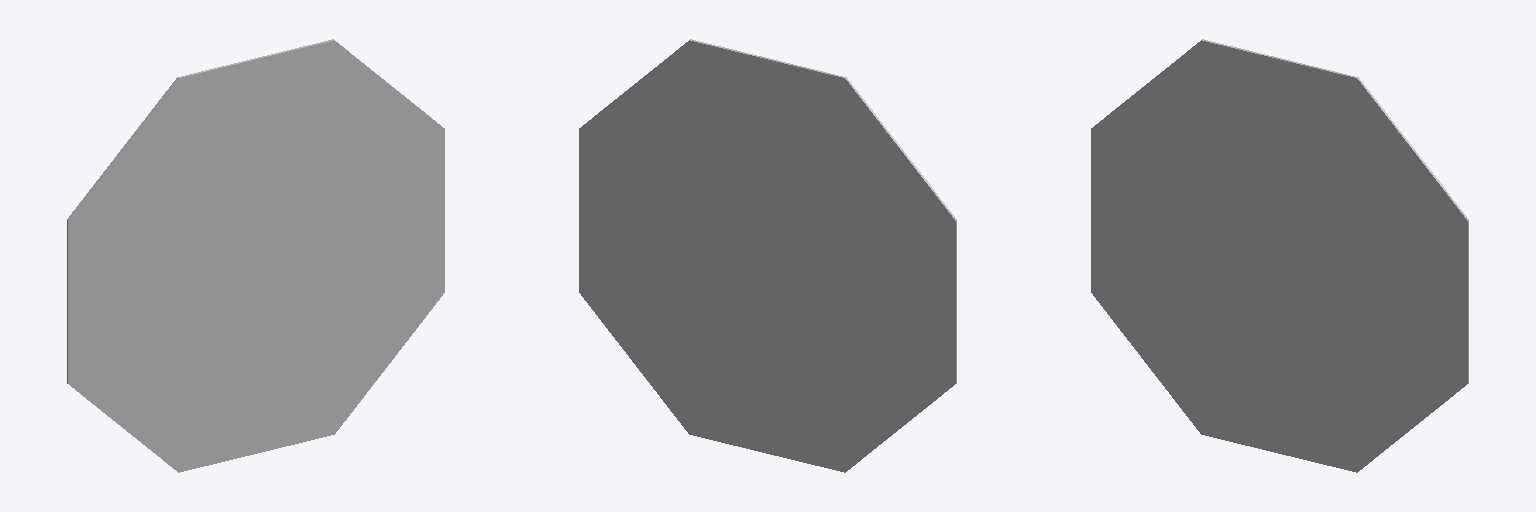
Rendered from RuN_Ac_sign_model.obj.
3 views of the same model, side by side, from view 1: azimuth 30°, elevation 25°; view 2: azimuth 150°, elevation 25°; view 3: azimuth 330°, elevation 25° (orthographic).
Visible parts, largest first — view 1: RuN_Ac_Sign; view 2: RuN_Ac_Sign; view 3: RuN_Ac_Sign.
Boxes of the visible parts, x1=… form: RuN_Ac_Sign: x1=67, y1=39, x2=444, y2=472; RuN_Ac_Sign: x1=579, y1=39, x2=956, y2=472; RuN_Ac_Sign: x1=1091, y1=39, x2=1468, y2=472.
Size of the model in its own units: 7.39 by 7.39 by 0.05.